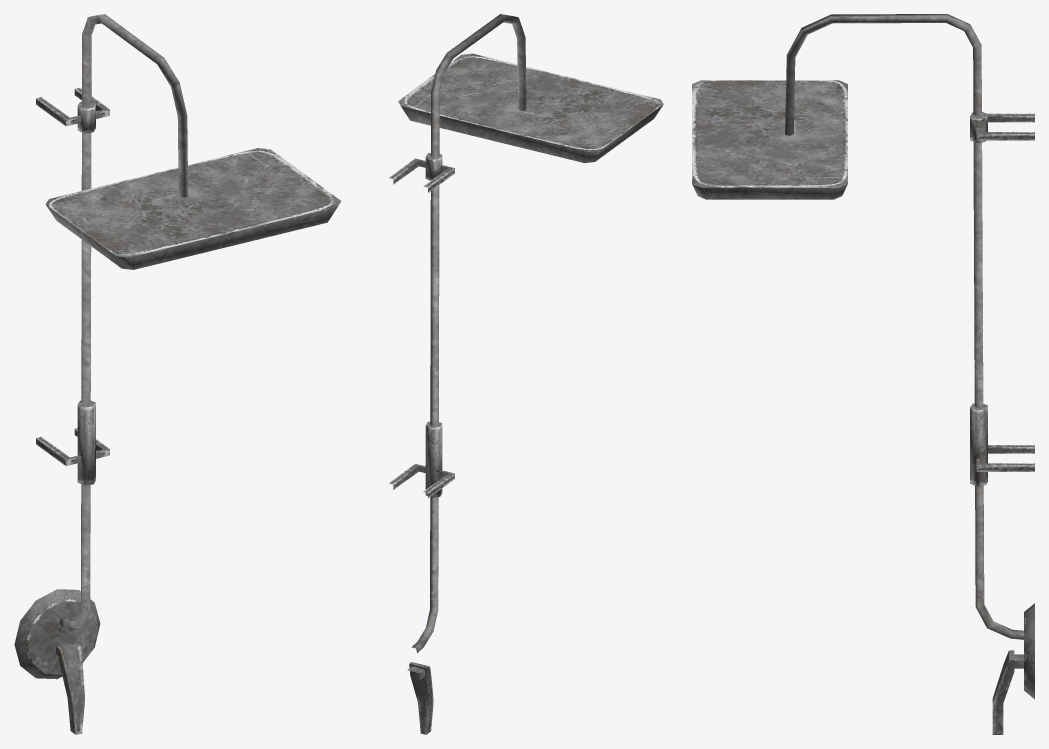
File: Prop_Hs01.glb
3 renders of one model, left to right at view 1: azimuth 30°, elevation 25°; view 2: azimuth 150°, elevation 25°; view 3: azimuth 270°, elevation 25°, orthographic. The views are drawn at different scales.
Parts seen in each view (by area): view 1: xiutz_hs_01; view 2: xiutz_hs_01; view 3: xiutz_hs_01.
Part boxes in pixels (x1,y1,x2,y2): xiutz_hs_01: (14,14,341,734); xiutz_hs_01: (389,14,663,734); xiutz_hs_01: (692,14,1034,734).
Size of the model in its own units: 1.2 by 3.75 by 1.62.
Materials: 1 (1 with a texture image).
